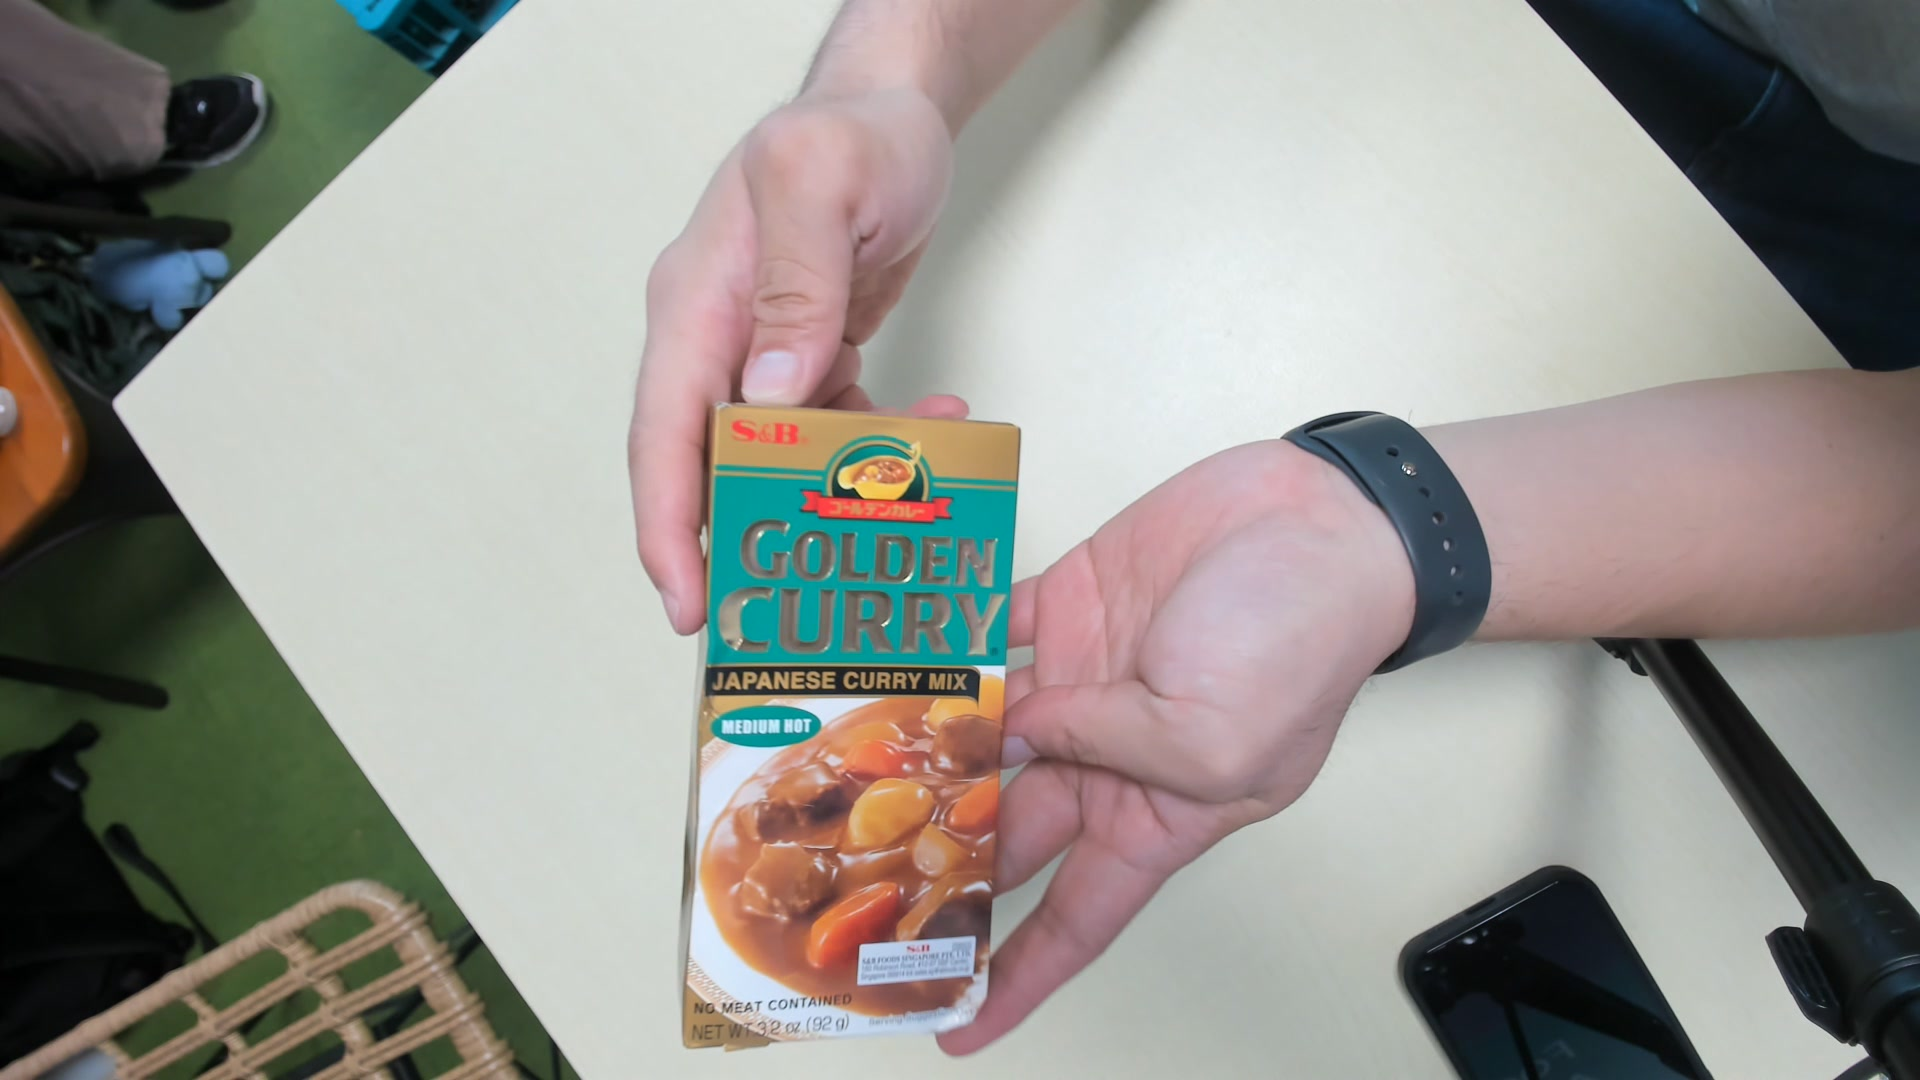OtherSauceDressing_0-99g_NonHalal_NonHealthy: (680, 407, 1025, 1055)
